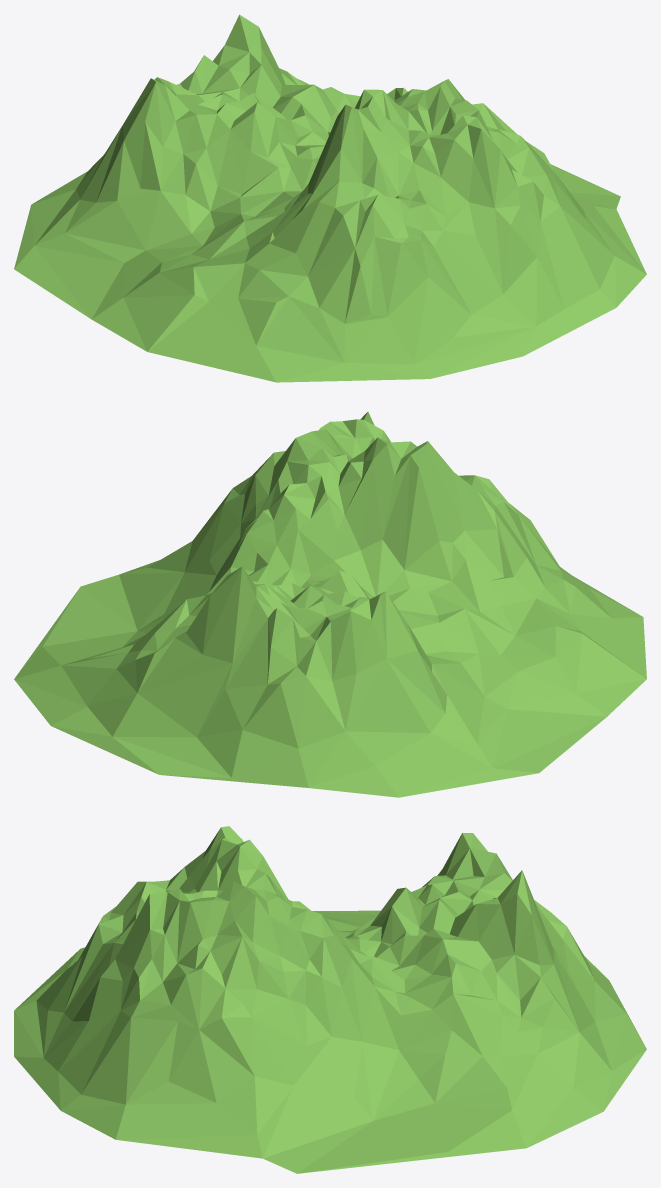
Rendered from Terrain_D.fbx.
3 renders of one model, top to bottom at view 1: azimuth 30°, elevation 25°; view 2: azimuth 150°, elevation 25°; view 3: azimuth 270°, elevation 25°, orthographic.
Visible parts, largest first — view 1: Terrain_D; view 2: Terrain_D; view 3: Terrain_D.
Part boxes in pixels (<box>): Terrain_D: <box>14,14,646,382</box>; Terrain_D: <box>14,411,646,797</box>; Terrain_D: <box>14,826,646,1173</box>.
Bounding box in the file's own units: 11639 × 4036 × 11836.
